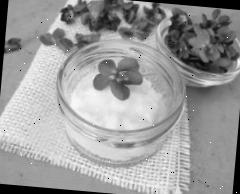glass: (49, 2, 240, 179)
